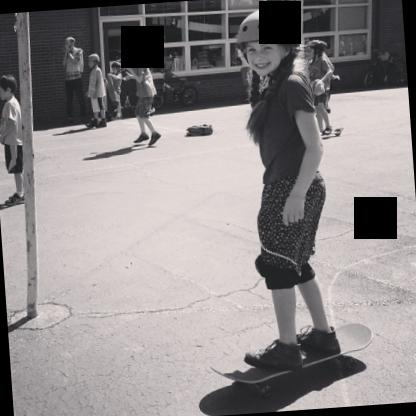backpack: (186, 124, 212, 135)
